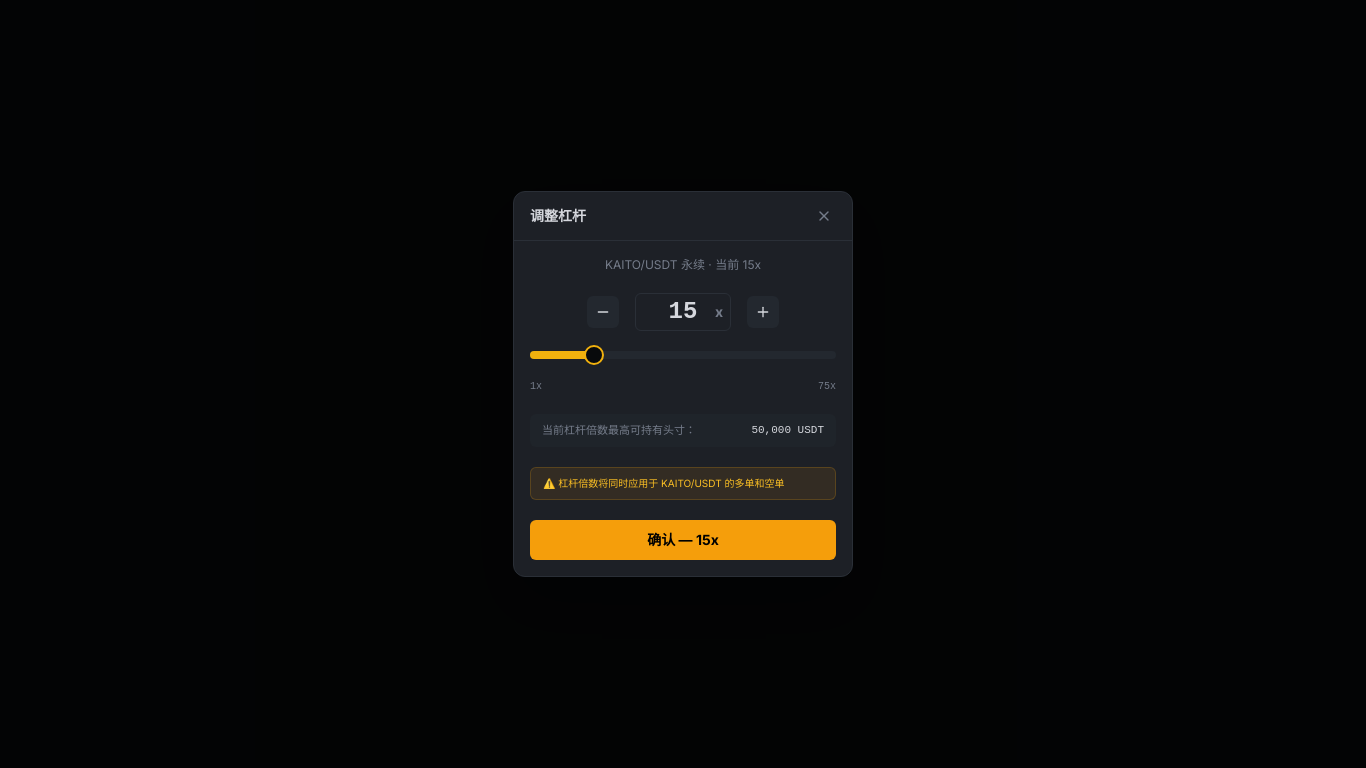
Test case: 滑块上限 = 合约的最高杠杆 › KAITOUSDT：75x，15x 最高 50,000 USDT
This screenshot has width=1366, height=768.
Later steps or results of the test are not shown.
expect the text with test id "leverage-max-label" reads "75x": met, box top-left (818, 379), bottom-right (836, 394)
expect the text with test id "leverage-min-label" reads "1x": met, box top-left (530, 379), bottom-right (542, 394)
Replace the text in the number field with test id "leverage-input" with "75" at point(683, 312), box top-left (635, 293), bottom-right (731, 331)
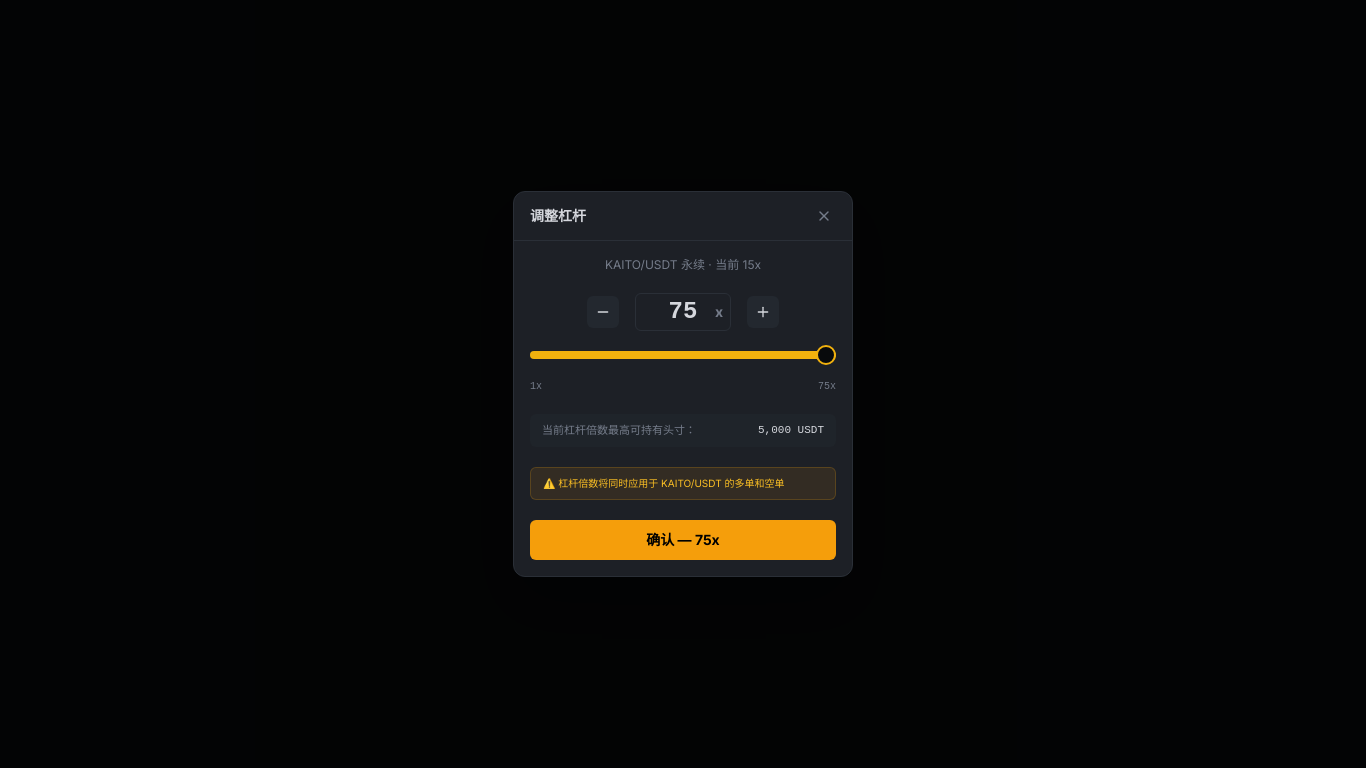
expect the element with test id "leverage-max-position" shows "5,000 USDT": met, box top-left (758, 424), bottom-right (824, 436)
Replace the text in the number field with test id "leverage-input" with "2" at point(683, 312), box top-left (635, 293), bottom-right (731, 331)
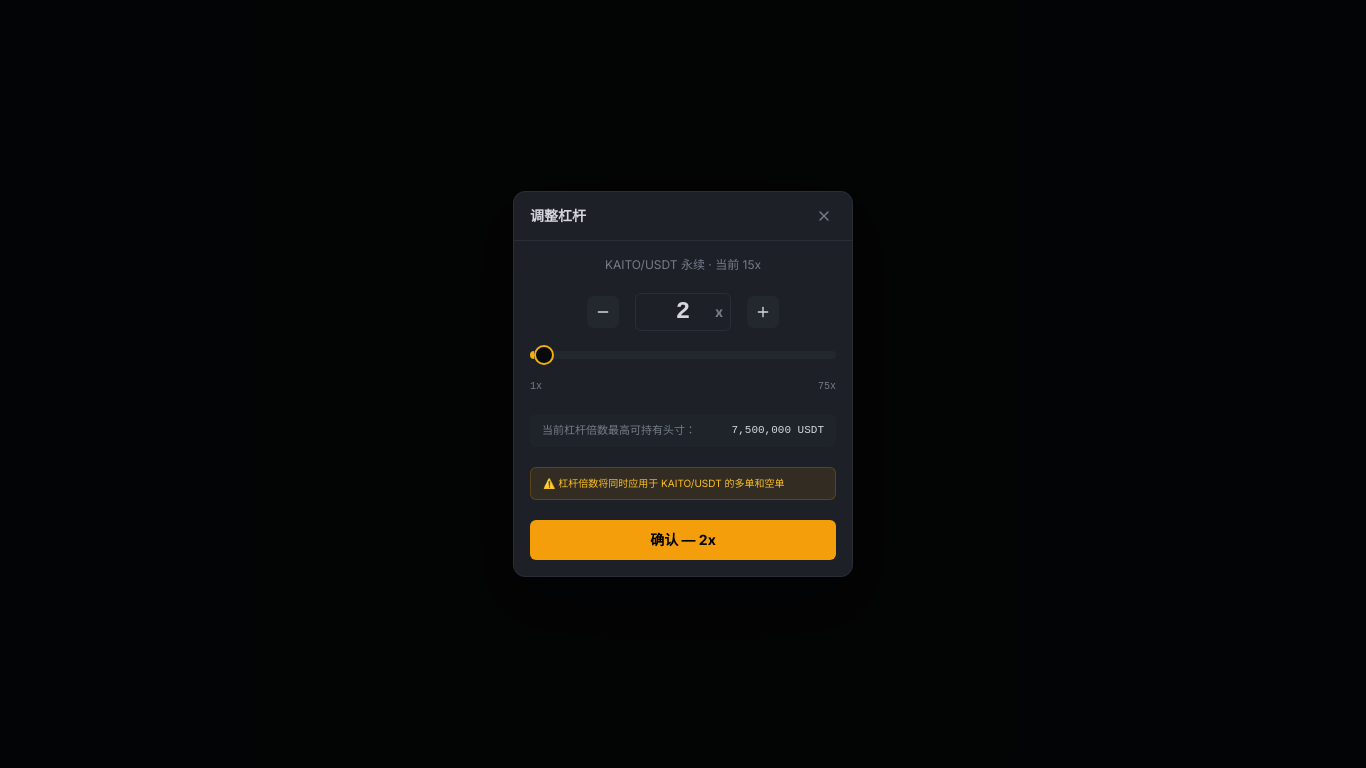
expect the element with test id "leverage-max-position" shows "7,500,000 USDT": met, box top-left (732, 424), bottom-right (824, 436)
